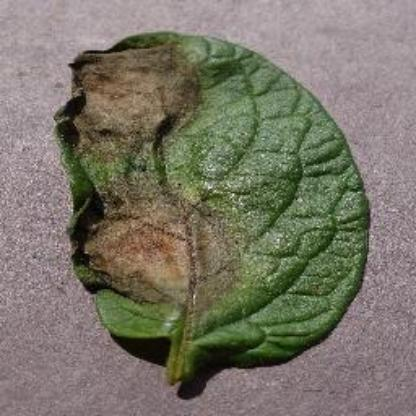Late-Blight: (52, 31, 374, 385)
